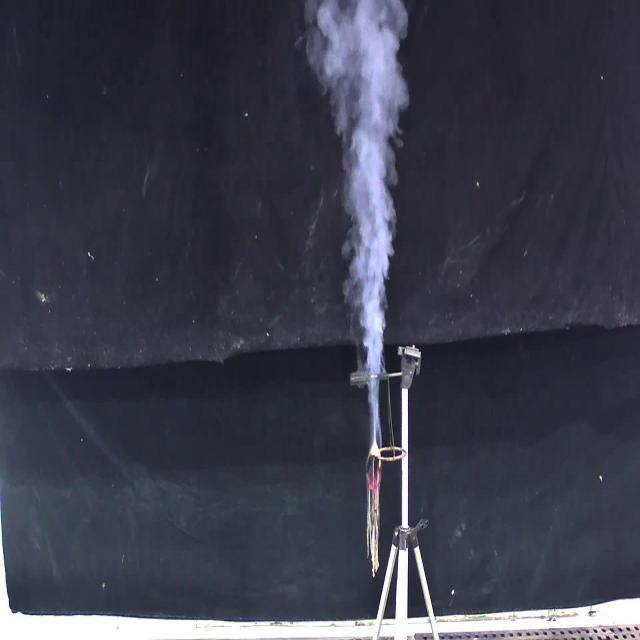fire: (304, 0, 406, 427)
